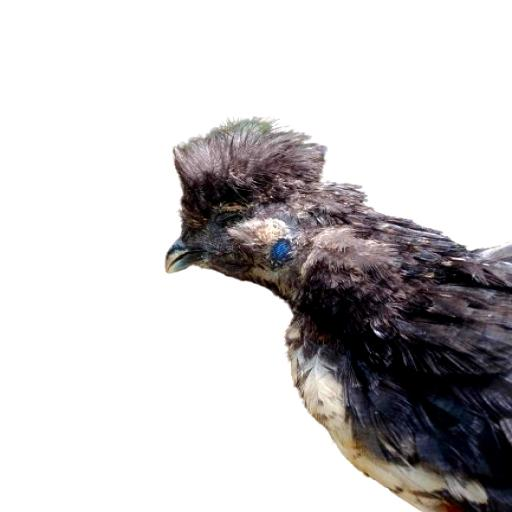disease: (176, 174, 347, 320)
